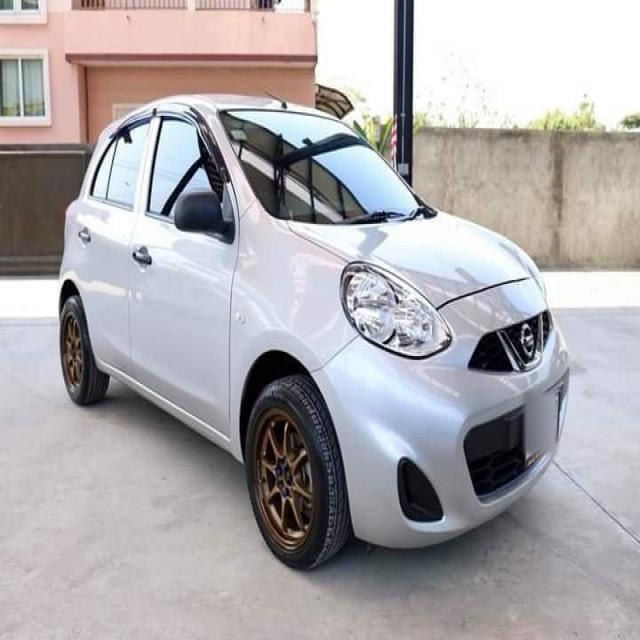back_right_door: (73, 108, 159, 383)
front_bumper: (310, 279, 572, 551)
front_glass: (219, 110, 439, 223)
front_right_door: (126, 102, 241, 437)
front_right_light: (339, 264, 453, 361)
hood: (291, 209, 533, 307)
right_mirror: (175, 188, 235, 242)
wheel: (58, 299, 352, 572)
